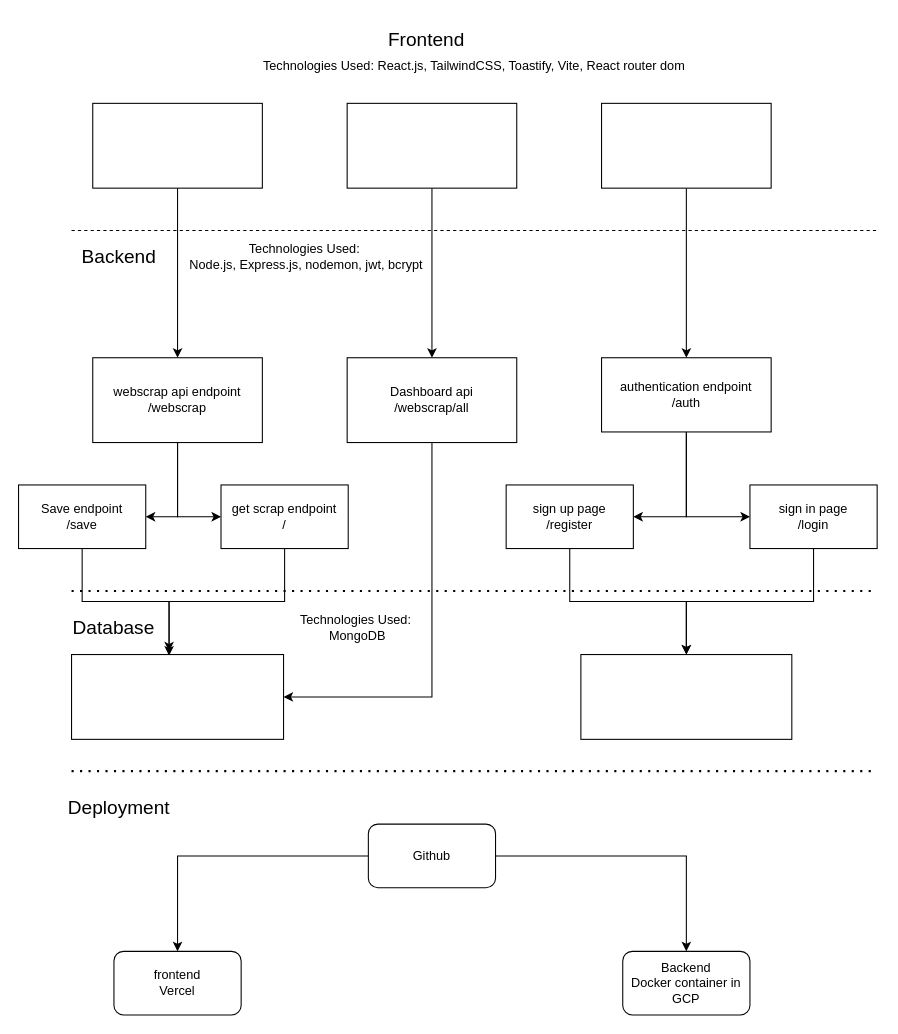
This 898x1034 diagram has some shape labels left out. Here are the shapes that lost their labels. From the top down, the box of each, then its label:
(92, 102, 262, 188): Web Scrap component /scrap
(346, 102, 517, 188): Dashboard Page /dashboard
(600, 102, 771, 188): Authentication Page /auth
(70, 653, 284, 739): Web Scrap Model url body title user
(580, 653, 792, 739): User Model name, email, password
